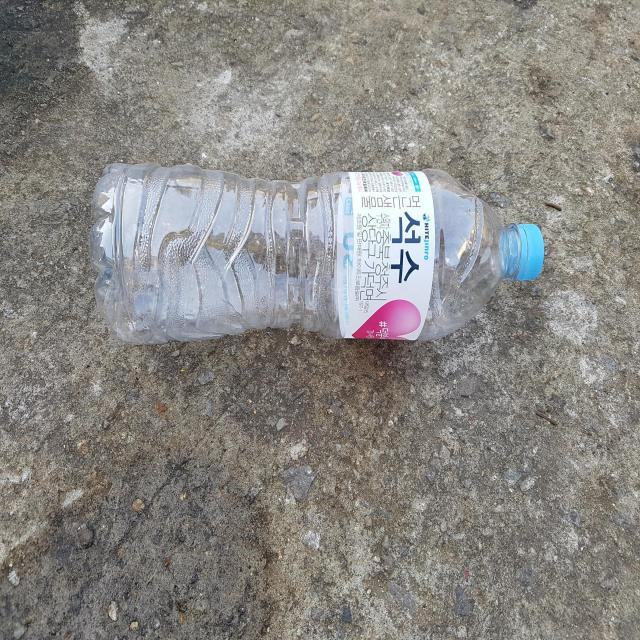plastic: (88, 163, 544, 344)
